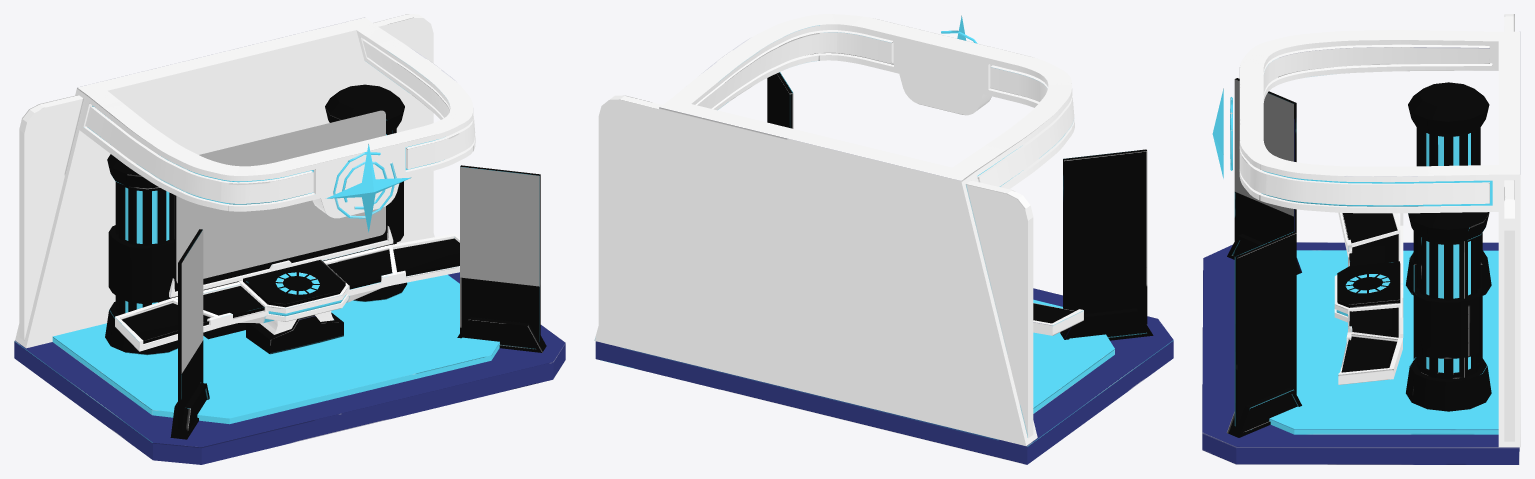
Rendered from stand1.glb.
3 views of the same model, side by side, from view 1: azimuth 30°, elevation 25°; view 2: azimuth 150°, elevation 25°; view 3: azimuth 270°, elevation 25° (orthographic). The views are drawn at different scales.
Visible parts, largest first — view 1: Plane.003, PanelVideo, PanelPoster; view 2: Plane.003; view 3: Plane.003, PanelPoster.
Part boxes in pixels (left/top/right/bottom): Plane.003: left=14, top=14, right=565, bottom=464; PanelVideo: left=176, top=110, right=385, bottom=283; PanelPoster: left=181, top=167, right=539, bottom=373; Plane.003: left=594, top=14, right=1173, bottom=464; Plane.003: left=1202, top=14, right=1520, bottom=464; PanelPoster: left=1234, top=79, right=1293, bottom=216.
Size of what is drawn, in the model's own units: 11.31 by 7.1 by 7.43.
Materials: 1 (1 with a texture image).
